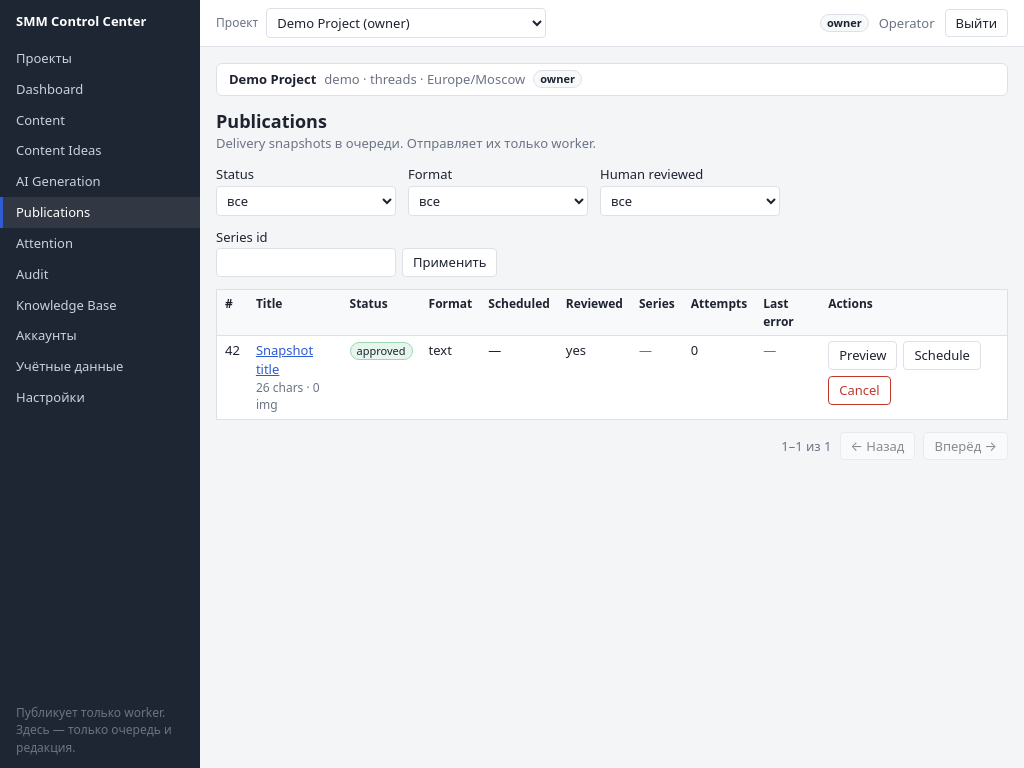
Scenario: scheduling › owner: the confirmation shows the exact snapshot and sends an offset-aware time
Click the button "Schedule".
click(942, 356)  # box [904,341,981,370]
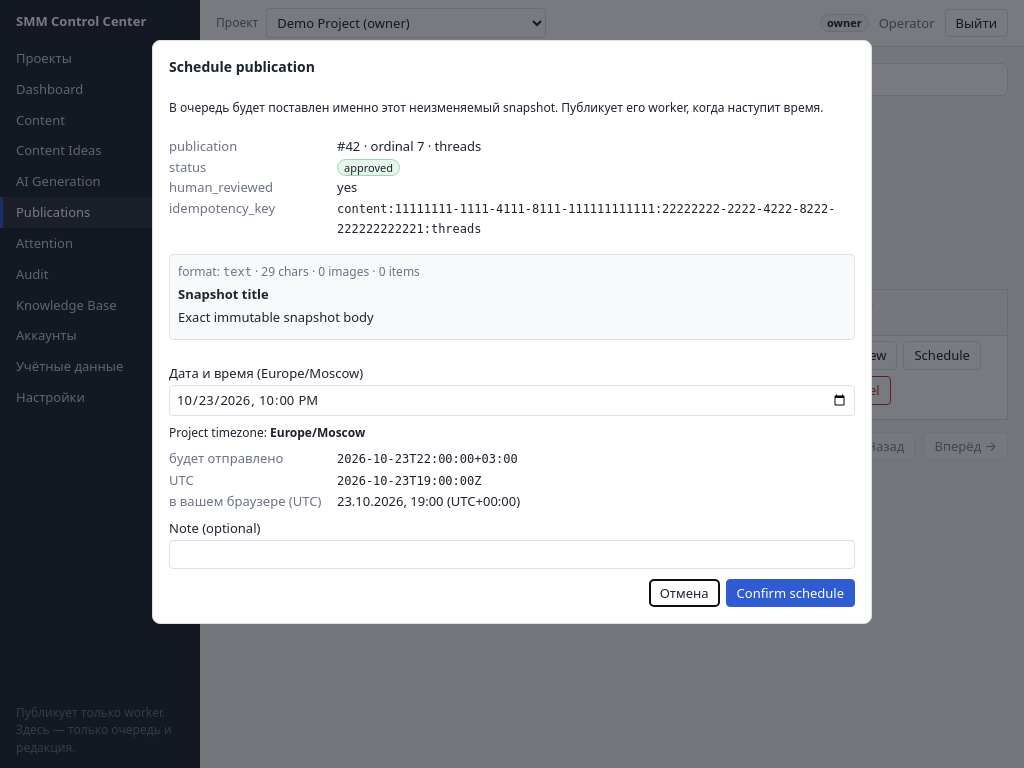
Check: the text "Exact immutable snapshot body" is shown, box [178,308,374,326]
Check: the text "Snapshot title" is shown, box [178,286,269,304]
Check: the text "Дата и время (Europe/Moscow)" is shown, box [169,364,855,416]
Replace the text in the field named "Scheduled time" with "2026-10-12T09:00" at (512, 400), box [169,385,855,416]
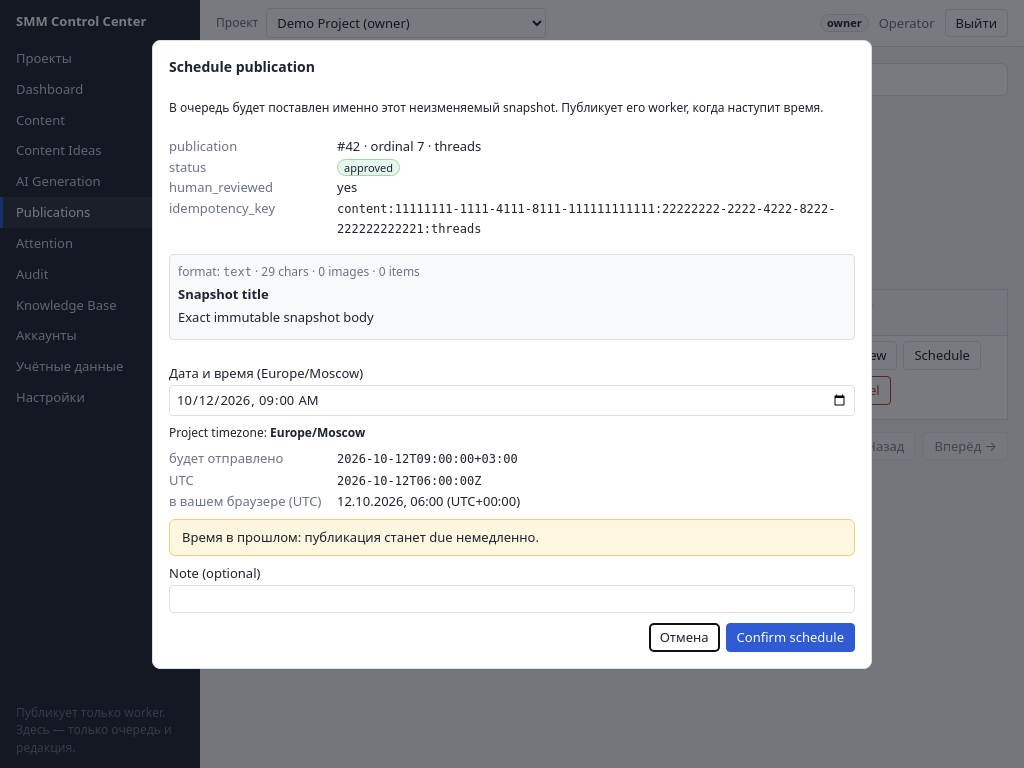
Check: the text "2026-10-12T09:00:00+03:00" is shown, box [337,452,518,466]
Check: the text "2026-10-12T06:00:00Z" is shown, box [337,474,482,488]
Click the button "Confirm schedule".
click(790, 638)  # box [726,623,855,652]
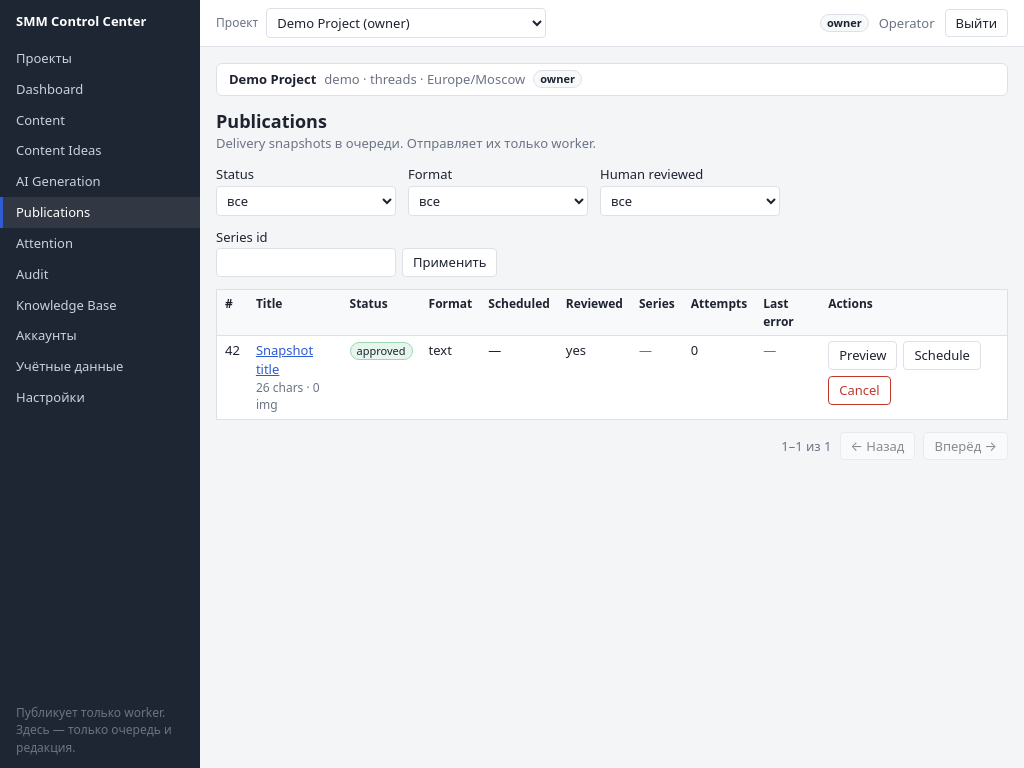
Check: the dialog is gone
